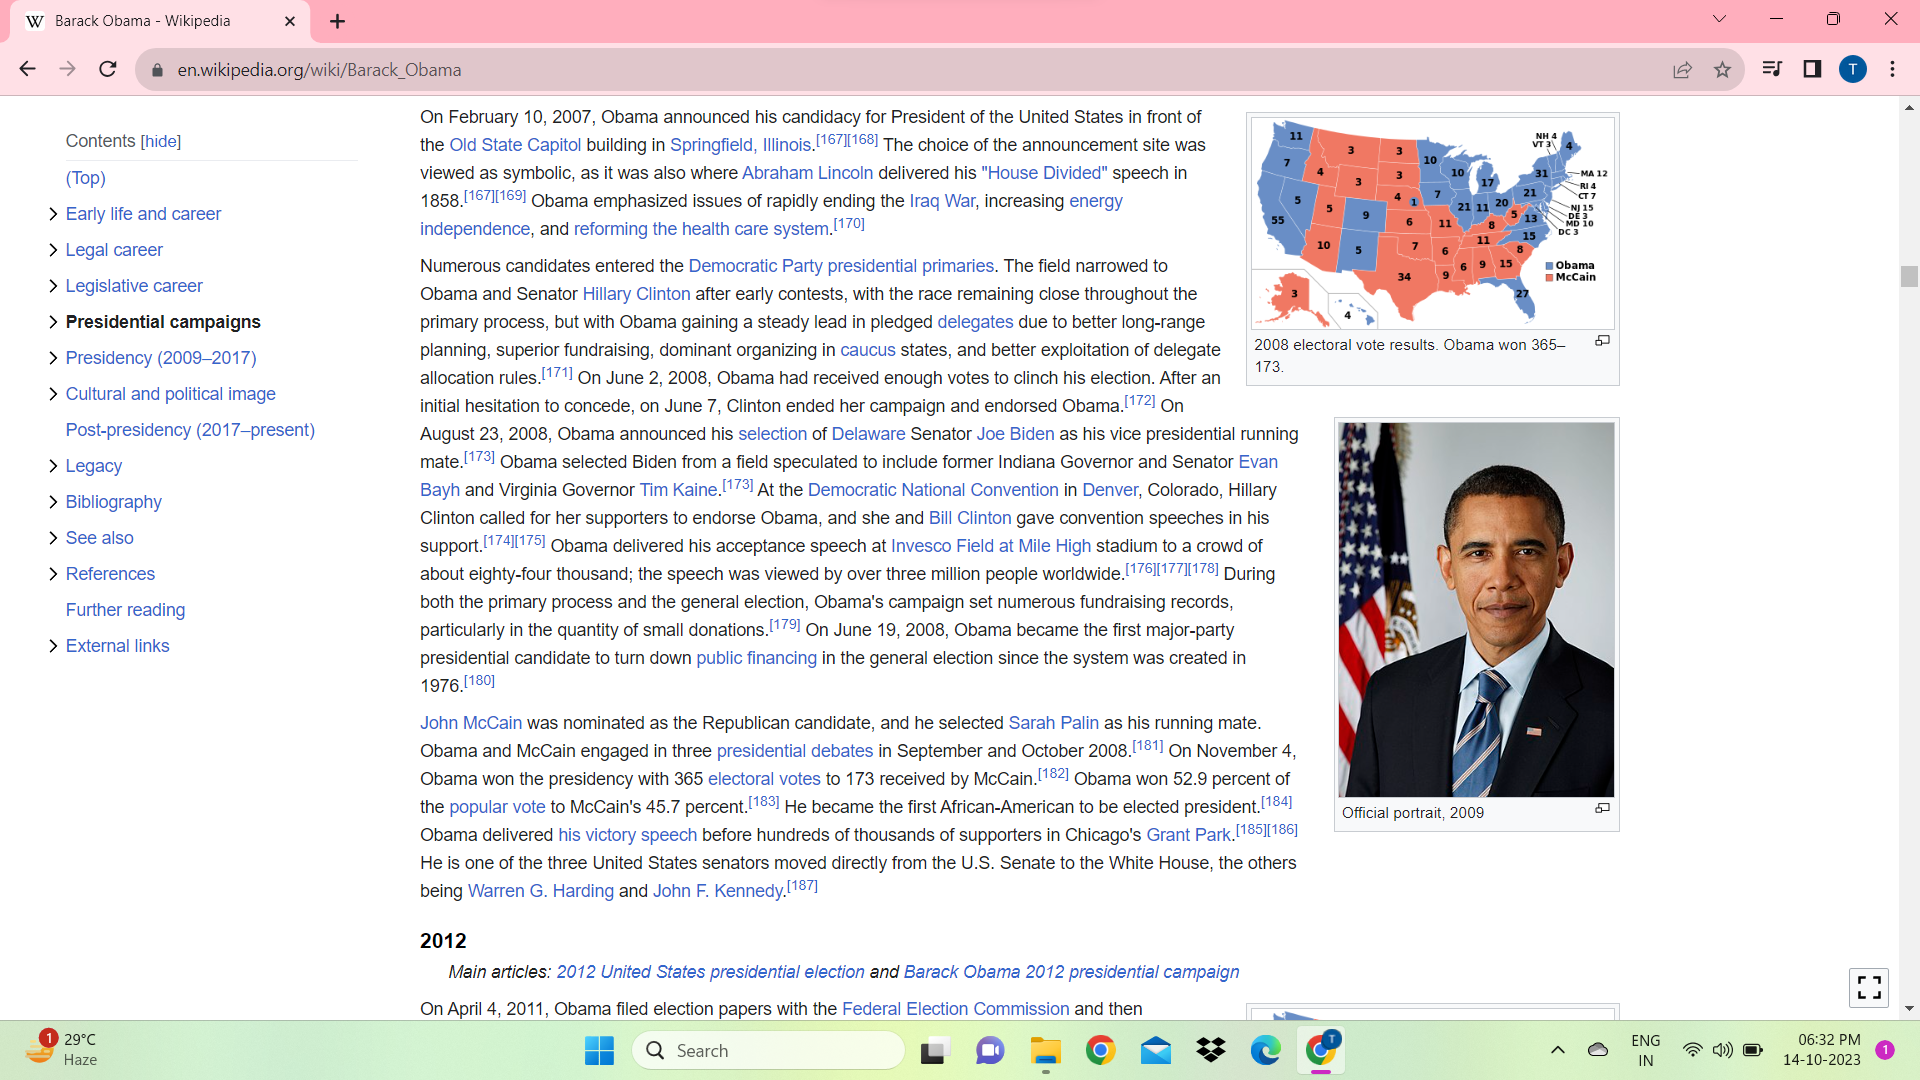Image: (1316, 411, 1638, 818), (1241, 102, 1644, 377)
Paragraph: (410, 255, 1286, 702), (418, 712, 1292, 910), (411, 105, 1215, 240), (444, 957, 1249, 988), (411, 990, 1147, 1017), (61, 414, 316, 444), (58, 306, 285, 339), (62, 345, 265, 371), (61, 203, 231, 231), (61, 384, 281, 404), (51, 125, 203, 152), (58, 274, 214, 299), (61, 628, 179, 655), (67, 591, 187, 617), (57, 556, 162, 583), (50, 160, 133, 193), (61, 237, 164, 264), (67, 488, 175, 513), (411, 916, 492, 949), (58, 520, 145, 550), (65, 458, 133, 472)
